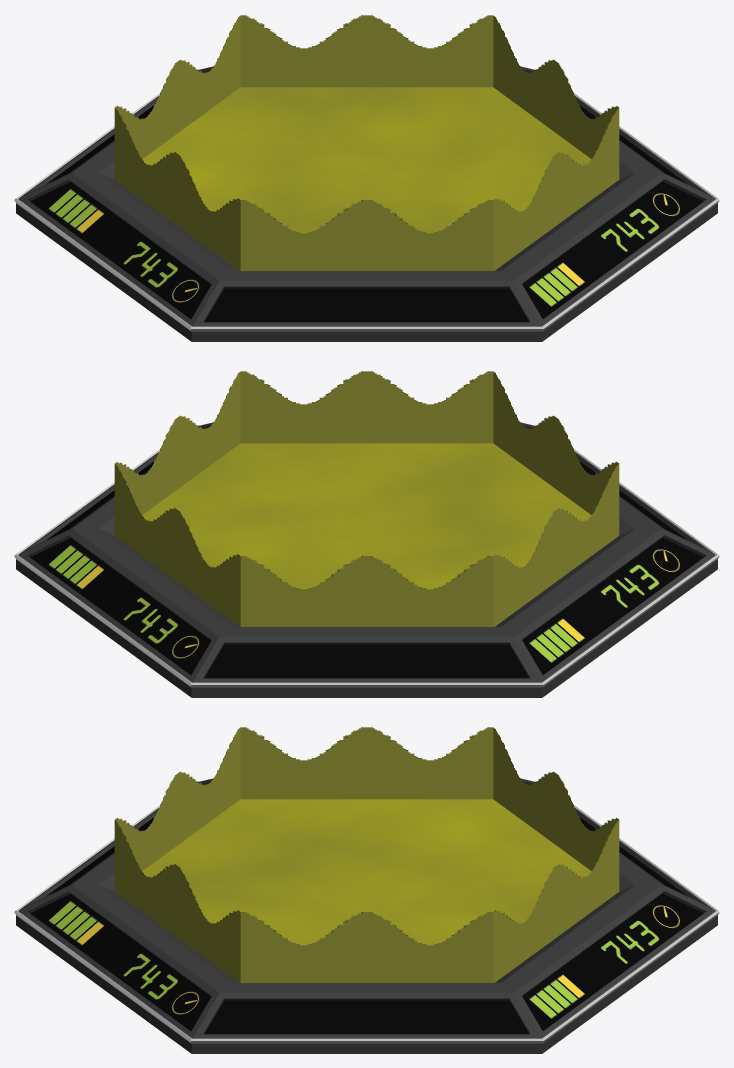
The model's file is Teleport Pad.fbx.
3 renders of one model, top to bottom at view 1: azimuth 30°, elevation 25°; view 2: azimuth 150°, elevation 25°; view 3: azimuth 270°, elevation 25°, orthographic.
Parts seen in each view (by area): view 1: LandingPad_1; view 2: LandingPad_1; view 3: LandingPad_1.
Part boxes in pixels (x1,y1,x2,y2): LandingPad_1: (14, 15, 719, 341); LandingPad_1: (14, 371, 719, 697); LandingPad_1: (14, 727, 719, 1053).
Size of the model in its own units: 81.91 by 15.8 by 94.58.
Materials: 6 (3 with a texture image).
